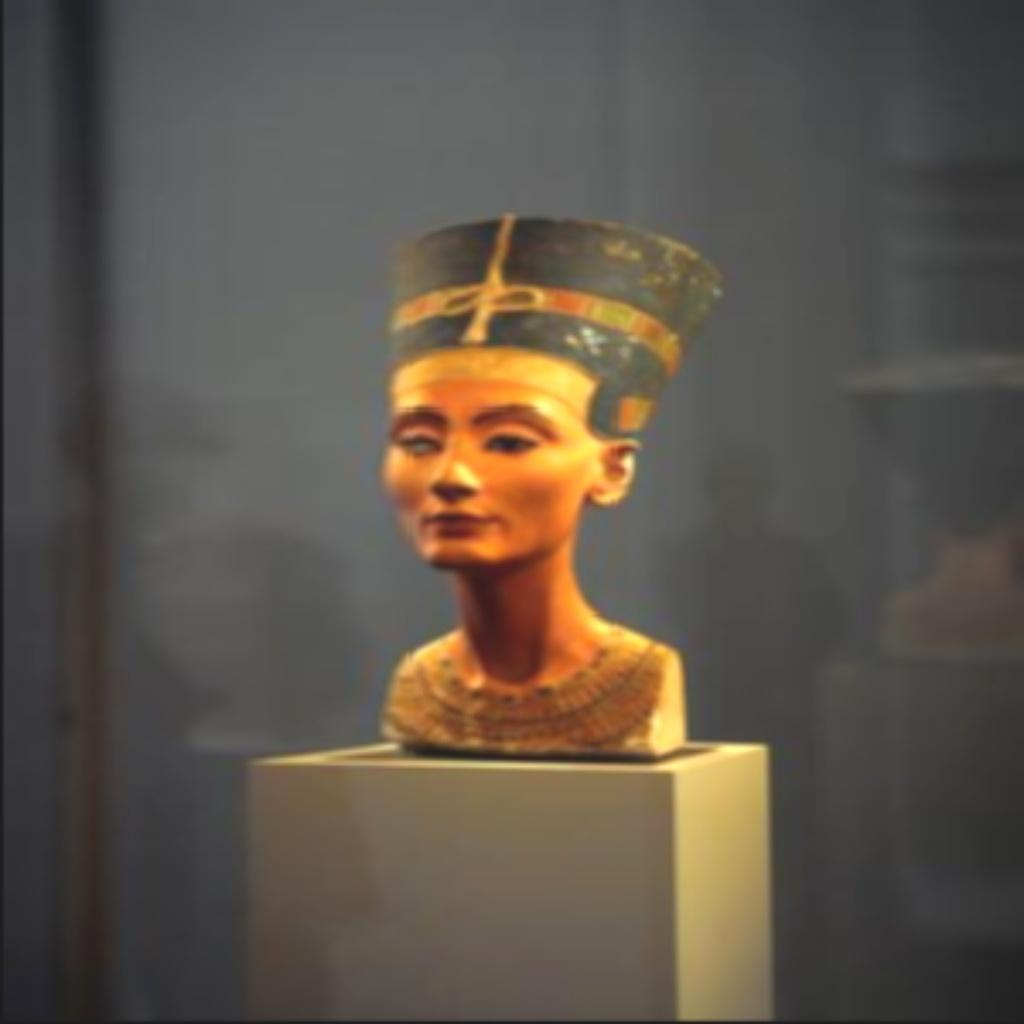Nefertiti: (368, 210, 724, 758)
